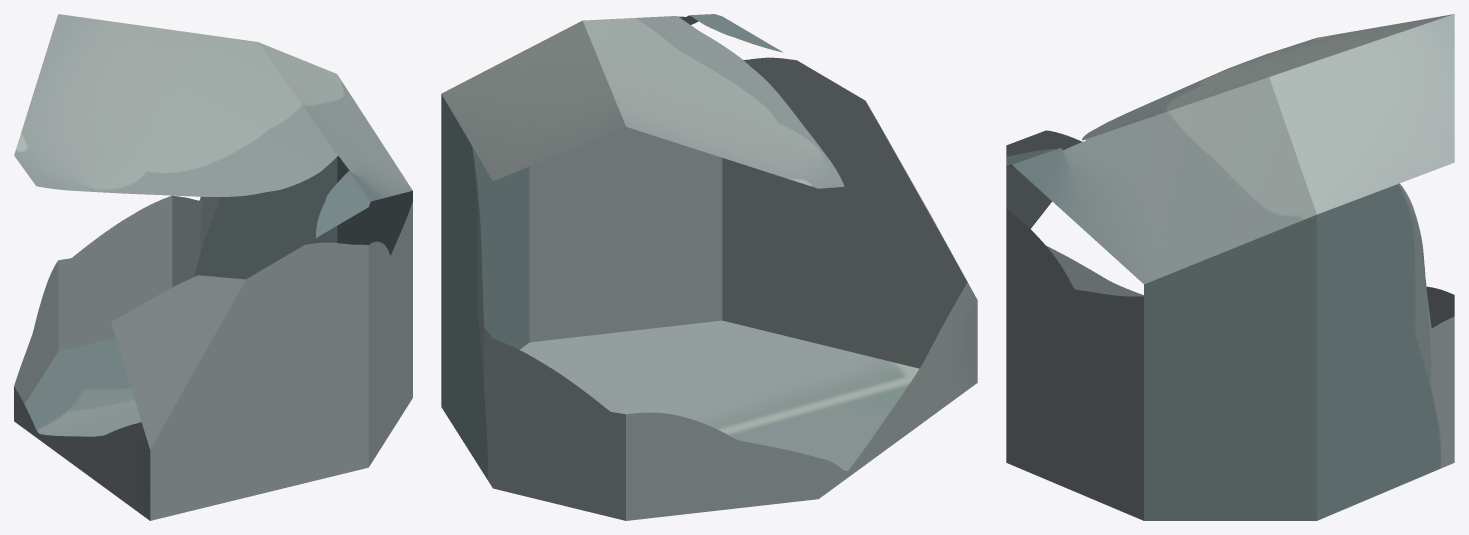
Rendered from stone_01.fbx.
3 views of the same model, side by side, from view 1: azimuth 30°, elevation 25°; view 2: azimuth 150°, elevation 25°; view 3: azimuth 270°, elevation 25° (orthographic). The views are drawn at different scales.
Parts seen in each view (by area): view 1: Box141; view 2: Box141; view 3: Box141.
Part boxes in pixels (x1,y1,x2,y2): Box141: [14, 14, 412, 520]; Box141: [441, 14, 977, 520]; Box141: [1006, 14, 1454, 520].
Size of the model in its own units: 187 by 188 by 197.
